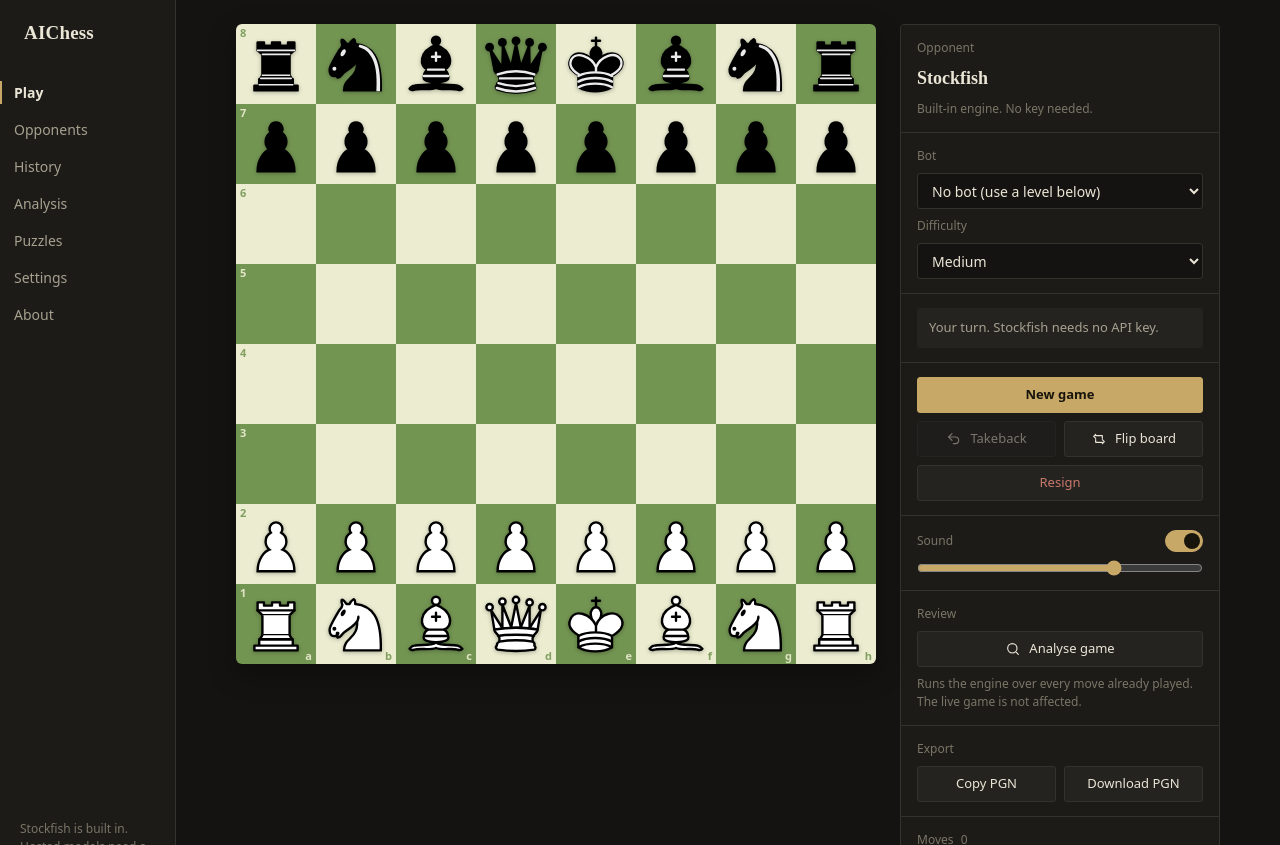
Test: copy fallback › shows selectable PGN text when the clipboard refuses
Press the mouse on the element with class "chessboard-wrap" at (556, 344), box [236, 24, 876, 664]
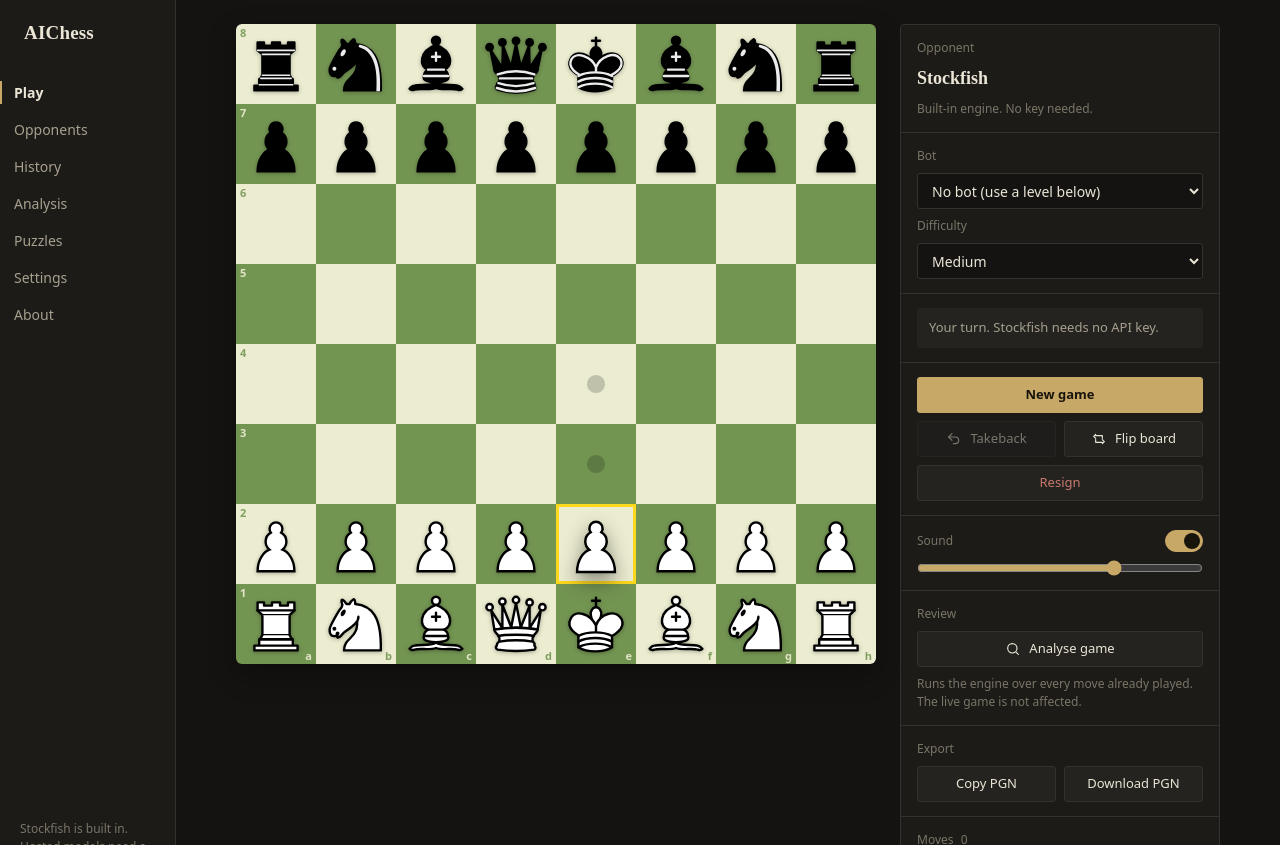
Press the mouse on the element with class "chessboard-wrap" at (556, 344), box [236, 24, 876, 664]
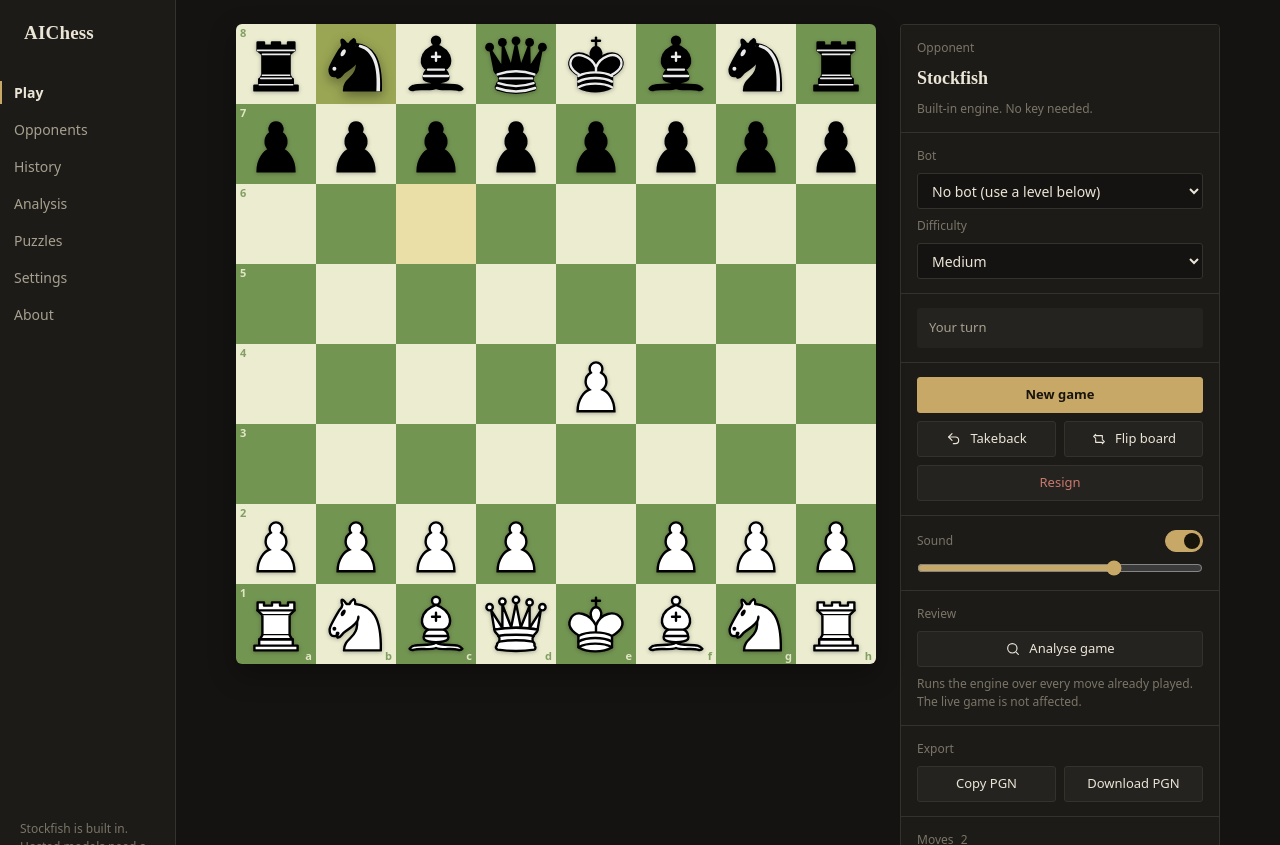
Click the button "Copy PGN" at (986, 784), box [917, 766, 1056, 802]
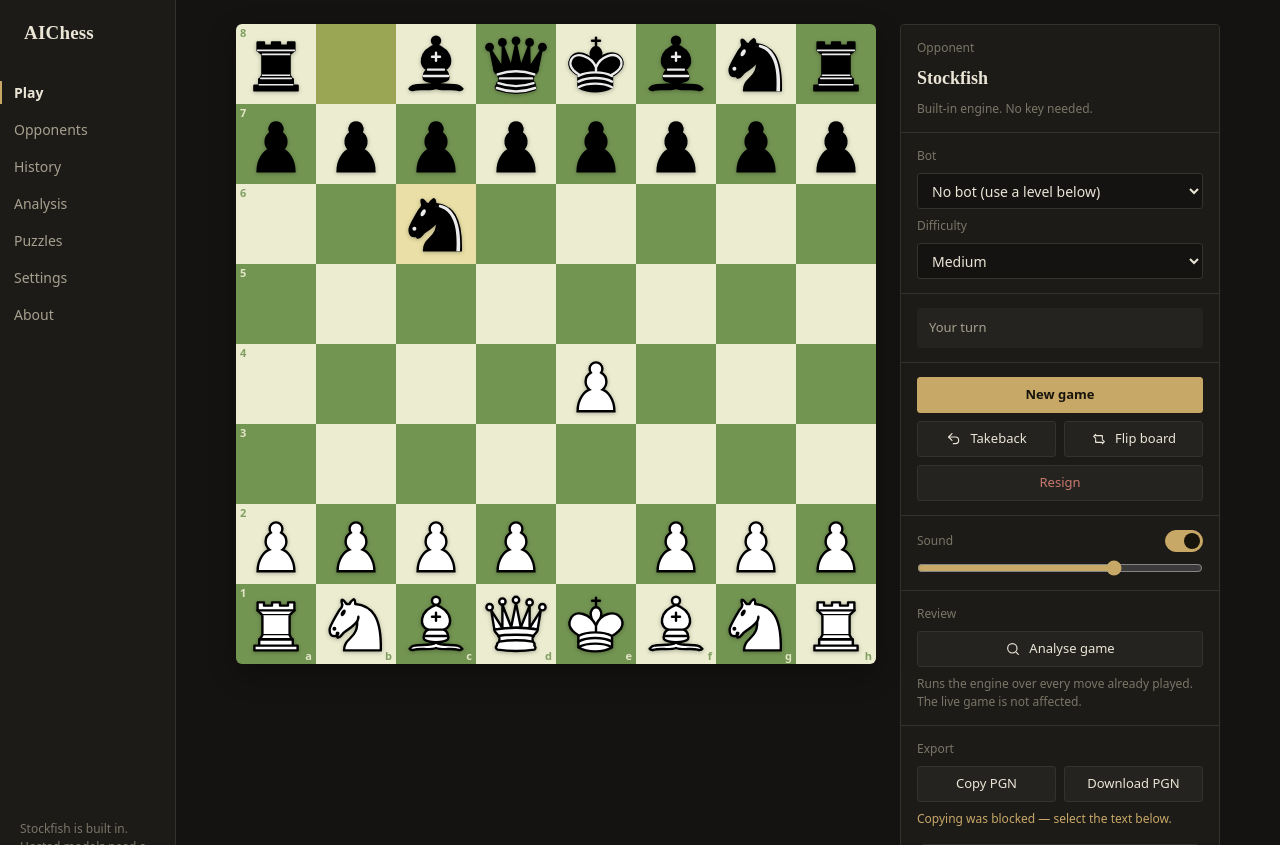
Expected: the message with class "gp-pgn-feedback" shows "blocked", [917, 810, 1172, 827]
